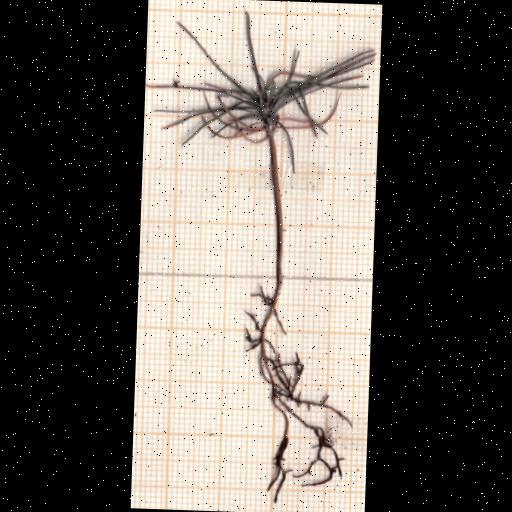flowerCedr: (151, 13, 376, 159)
rootCedr: (245, 297, 351, 503)
stemCedr: (267, 129, 284, 305)
